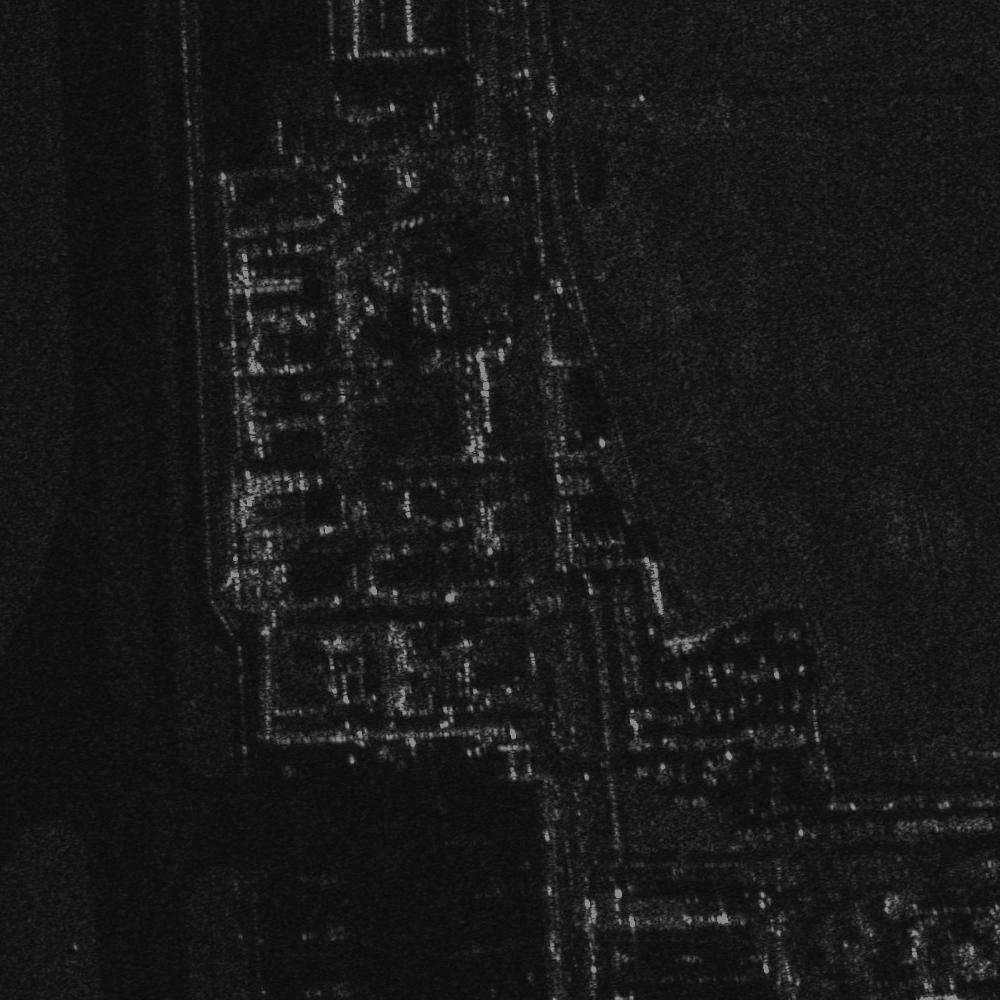ARJ21: (296, 972, 362, 999)
other: (295, 914, 353, 957)
